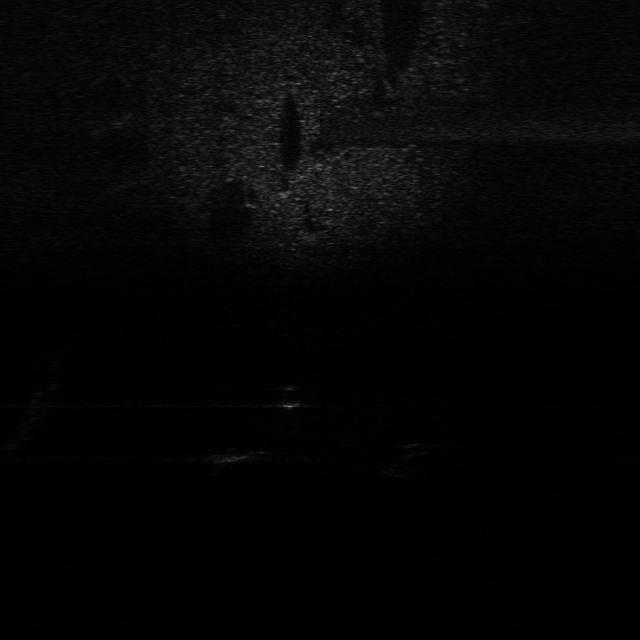ball: (273, 385, 311, 410)
square cage: (207, 446, 259, 468)
tyre: (377, 440, 447, 481)
